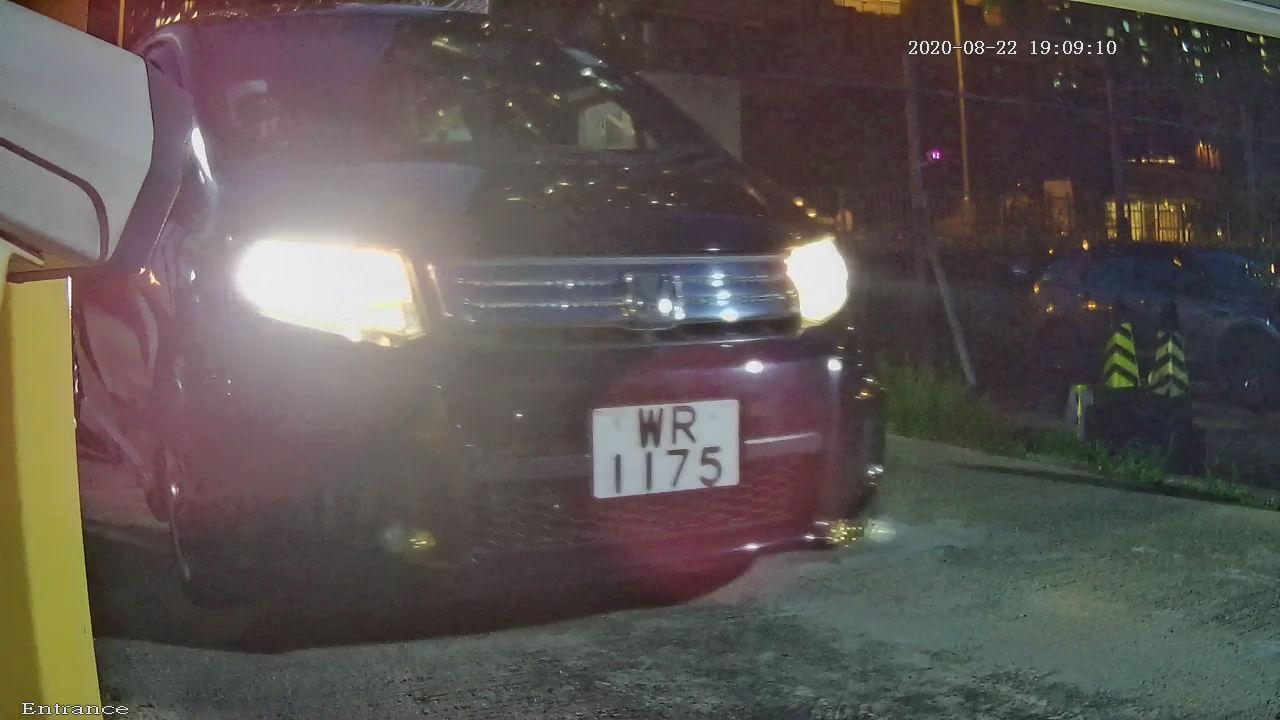Car: (1, 10, 989, 666)
License Plate: (566, 389, 755, 512)
